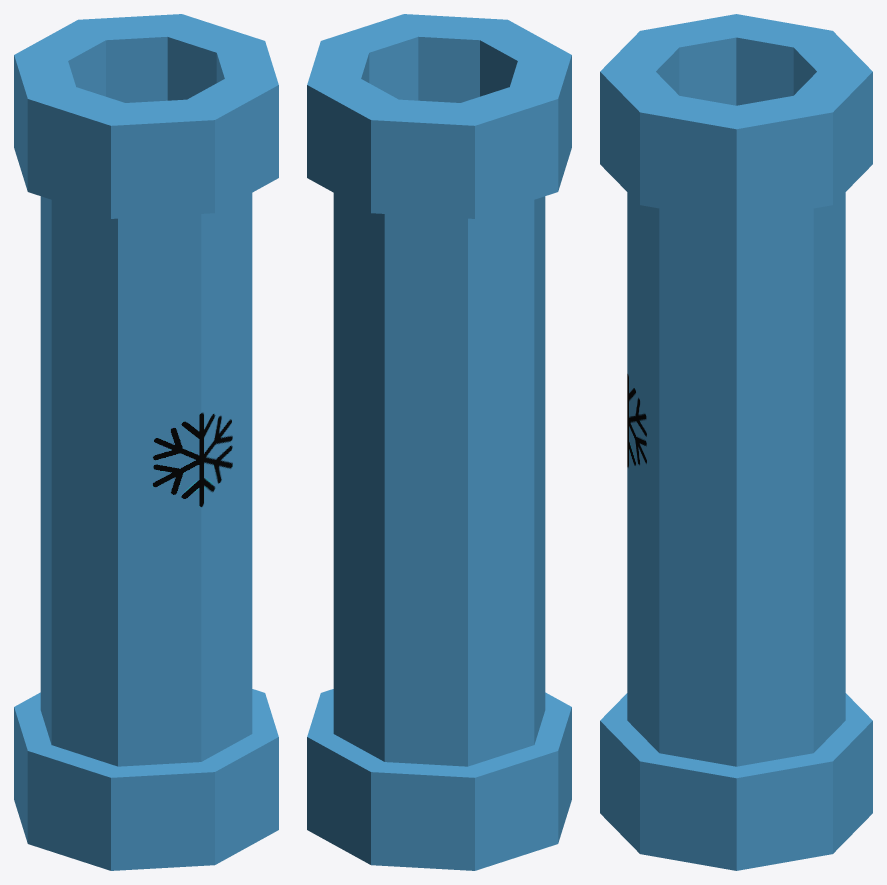
The model's file is pipe.glb.
The picture shows the model from 3 angles, left to right: view 1: azimuth 30°, elevation 25°; view 2: azimuth 150°, elevation 25°; view 3: azimuth 270°, elevation 25°; orthographic projection.
Visible parts, largest first — view 1: pipe; view 2: pipe; view 3: pipe.
Part boxes in pixels (x1,y1,x2,y2): pipe: (14, 14, 278, 870); pipe: (307, 14, 571, 870); pipe: (600, 14, 872, 870).
Bounding box in the file's own units: 1 × 3 × 1.
1 material, 1 textured.
